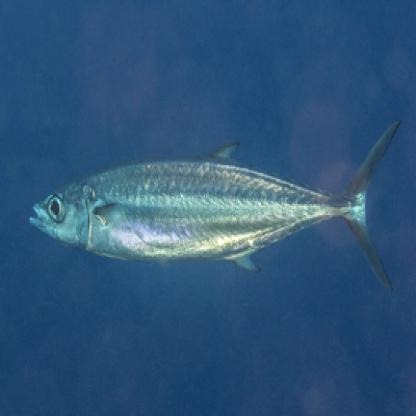Scombridae -Tunas-: (25, 115, 411, 300)
